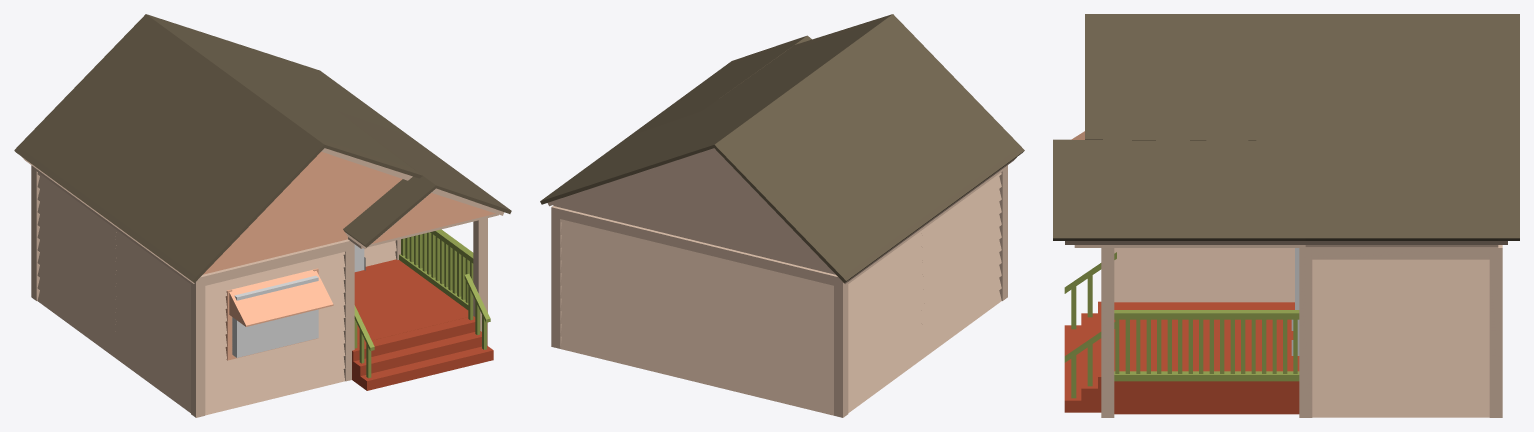
File: House 4.fbx
3 renders of one model, left to right at view 1: azimuth 30°, elevation 25°; view 2: azimuth 150°, elevation 25°; view 3: azimuth 270°, elevation 25°, orthographic. The views are drawn at different scales.
Visible parts, largest first — view 1: Cube.078, Cube.095, Cube.090, Cube.097, CTRL_Hole.012, Cube.093, Cube.081, Cube.086, Cube.096, Cube.082, Cube.094, Cube.085 (+2 smaller); view 2: Cube.078, Cube.089, Cube.085, Cube.084, Cube.081, Cube.087; view 3: Cube.078, Cube.090, Cube.093, Cube.095, Cube.084, Cube.083, Cube.094, Cube.088, Cube.091, Cube.092, Cube.096.
Part boxes in pixels (bbox=[...]): Cube.078: bbox=[14, 14, 511, 415]; Cube.095: bbox=[352, 316, 493, 390]; Cube.090: bbox=[354, 259, 468, 343]; Cube.097: bbox=[229, 270, 333, 326]; CTRL_Hole.012: bbox=[232, 275, 318, 357]; Cube.093: bbox=[401, 232, 473, 303]; Cube.081: bbox=[191, 275, 205, 417]; Cube.086: bbox=[203, 240, 345, 285]; Cube.096: bbox=[354, 274, 490, 378]; Cube.082: bbox=[343, 239, 354, 381]; Cube.094: bbox=[473, 218, 487, 345]; Cube.085: bbox=[31, 165, 39, 300]; Cube.078: bbox=[540, 14, 1024, 415]; Cube.089: bbox=[560, 208, 835, 285]; Cube.085: bbox=[834, 275, 848, 417]; Cube.084: bbox=[551, 205, 561, 348]; Cube.081: bbox=[999, 165, 1007, 300]; Cube.087: bbox=[848, 169, 1002, 283]; Cube.078: bbox=[1053, 14, 1519, 417]; Cube.090: bbox=[1114, 302, 1299, 414]; Cube.093: bbox=[1115, 319, 1297, 373]; Cube.095: bbox=[1064, 301, 1101, 412]; Cube.084: bbox=[1489, 245, 1502, 417]; Cube.083: bbox=[1299, 247, 1312, 417]; Cube.094: bbox=[1101, 248, 1114, 417]; Cube.088: bbox=[1312, 247, 1489, 259]; Cube.091: bbox=[1114, 310, 1299, 319]; Cube.092: bbox=[1114, 371, 1299, 381]; Cube.096: bbox=[1064, 252, 1116, 398].
Bounding box in the file's own units: 398 × 309 × 432.
